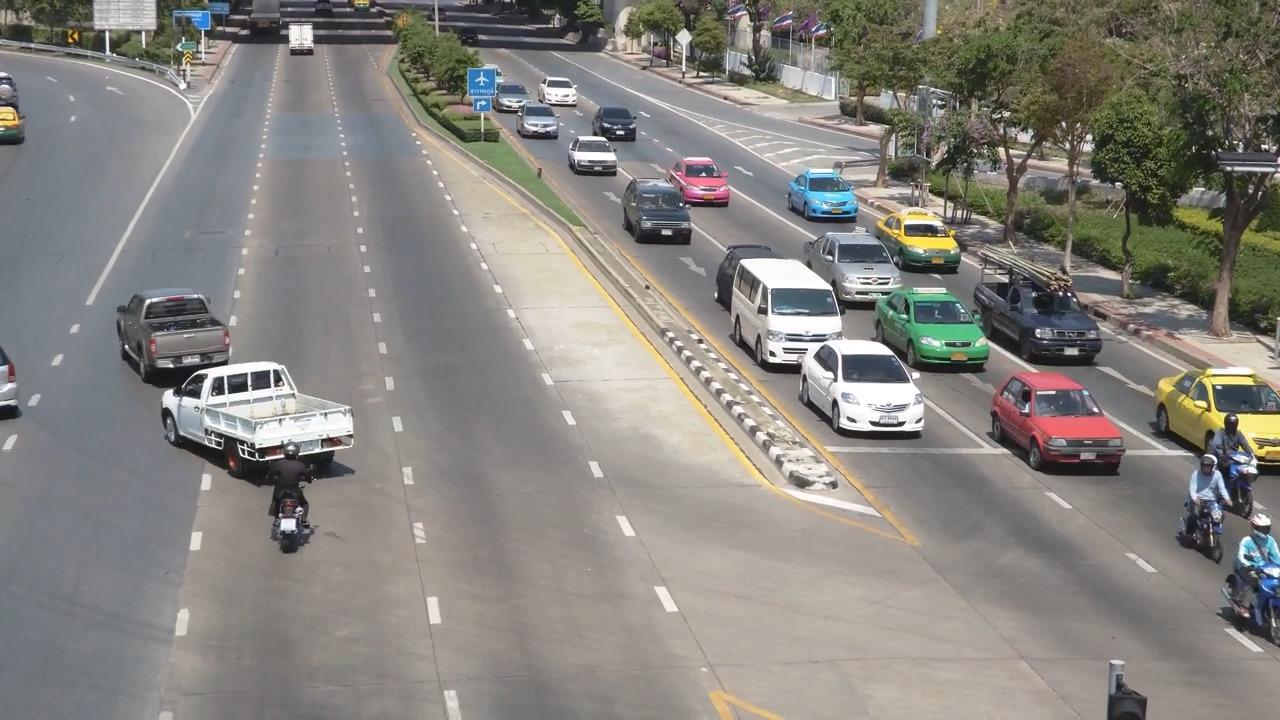CAR: (156, 359, 367, 489), (971, 247, 1113, 370), (987, 369, 1125, 485), (1139, 356, 1280, 468), (102, 280, 245, 389), (793, 331, 931, 438), (731, 251, 844, 370), (869, 276, 989, 369), (803, 223, 900, 302), (616, 174, 705, 256), (871, 194, 958, 268), (777, 159, 870, 228), (662, 152, 736, 207), (271, 11, 334, 75), (565, 124, 621, 179), (587, 95, 642, 145), (534, 63, 582, 105), (510, 95, 558, 135)
MOTOR: (244, 436, 339, 568), (1154, 456, 1231, 583), (1220, 509, 1280, 646), (1201, 415, 1265, 517)
